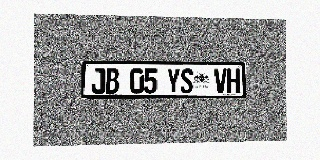0: (130, 68, 143, 94)
5: (144, 68, 157, 93)
B: (106, 68, 119, 94)
H: (227, 69, 240, 93)
J: (91, 68, 105, 94)
S: (180, 68, 193, 93)
V: (214, 69, 227, 93)
Y: (167, 68, 180, 93)
